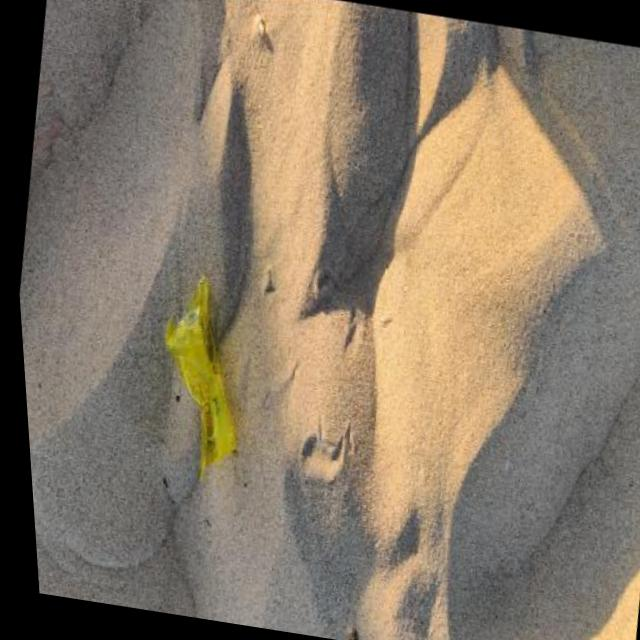plastic: (140, 271, 265, 484)
